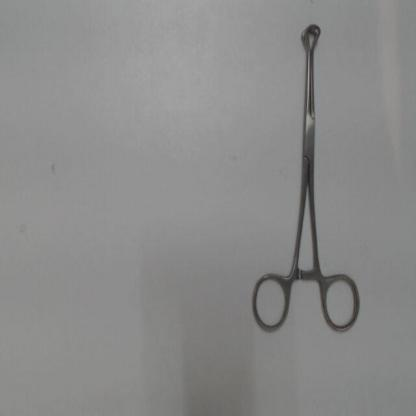Babcock Tissue Forceps: (249, 20, 363, 337)
